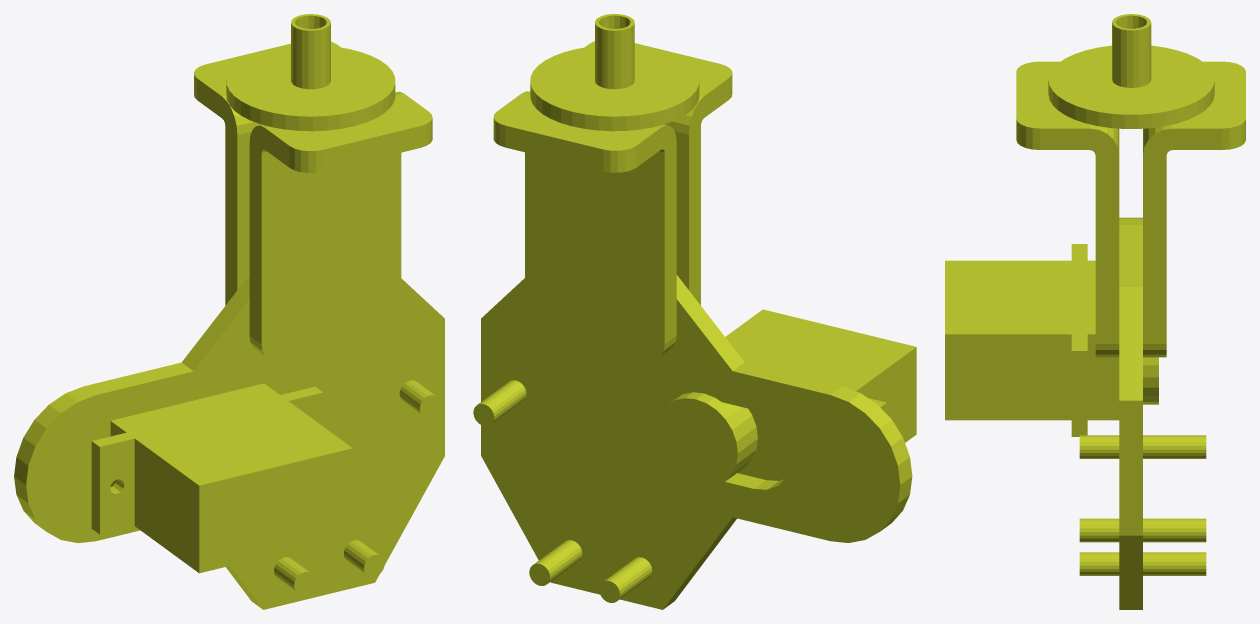
File: Gripper_part_1.dae
3 renders of one model, left to right at view 1: azimuth 30°, elevation 25°; view 2: azimuth 150°, elevation 25°; view 3: azimuth 270°, elevation 25°, orthographic.
Visible parts, largest first — view 1: gripper_part_1; view 2: gripper_part_1; view 3: gripper_part_1.
Part boxes in pixels (x1=…): gripper_part_1: x1=14, y1=14, x2=444, y2=609; gripper_part_1: x1=473, y1=14, x2=916, y2=609; gripper_part_1: x1=945, y1=14, x2=1245, y2=609.
Size of the model in its own units: 0.06 by 0.038 by 0.078.
